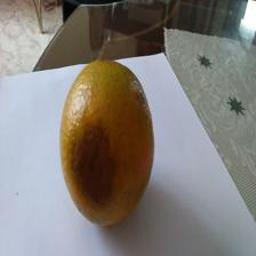Orange Semirotten: (48, 55, 176, 219)
